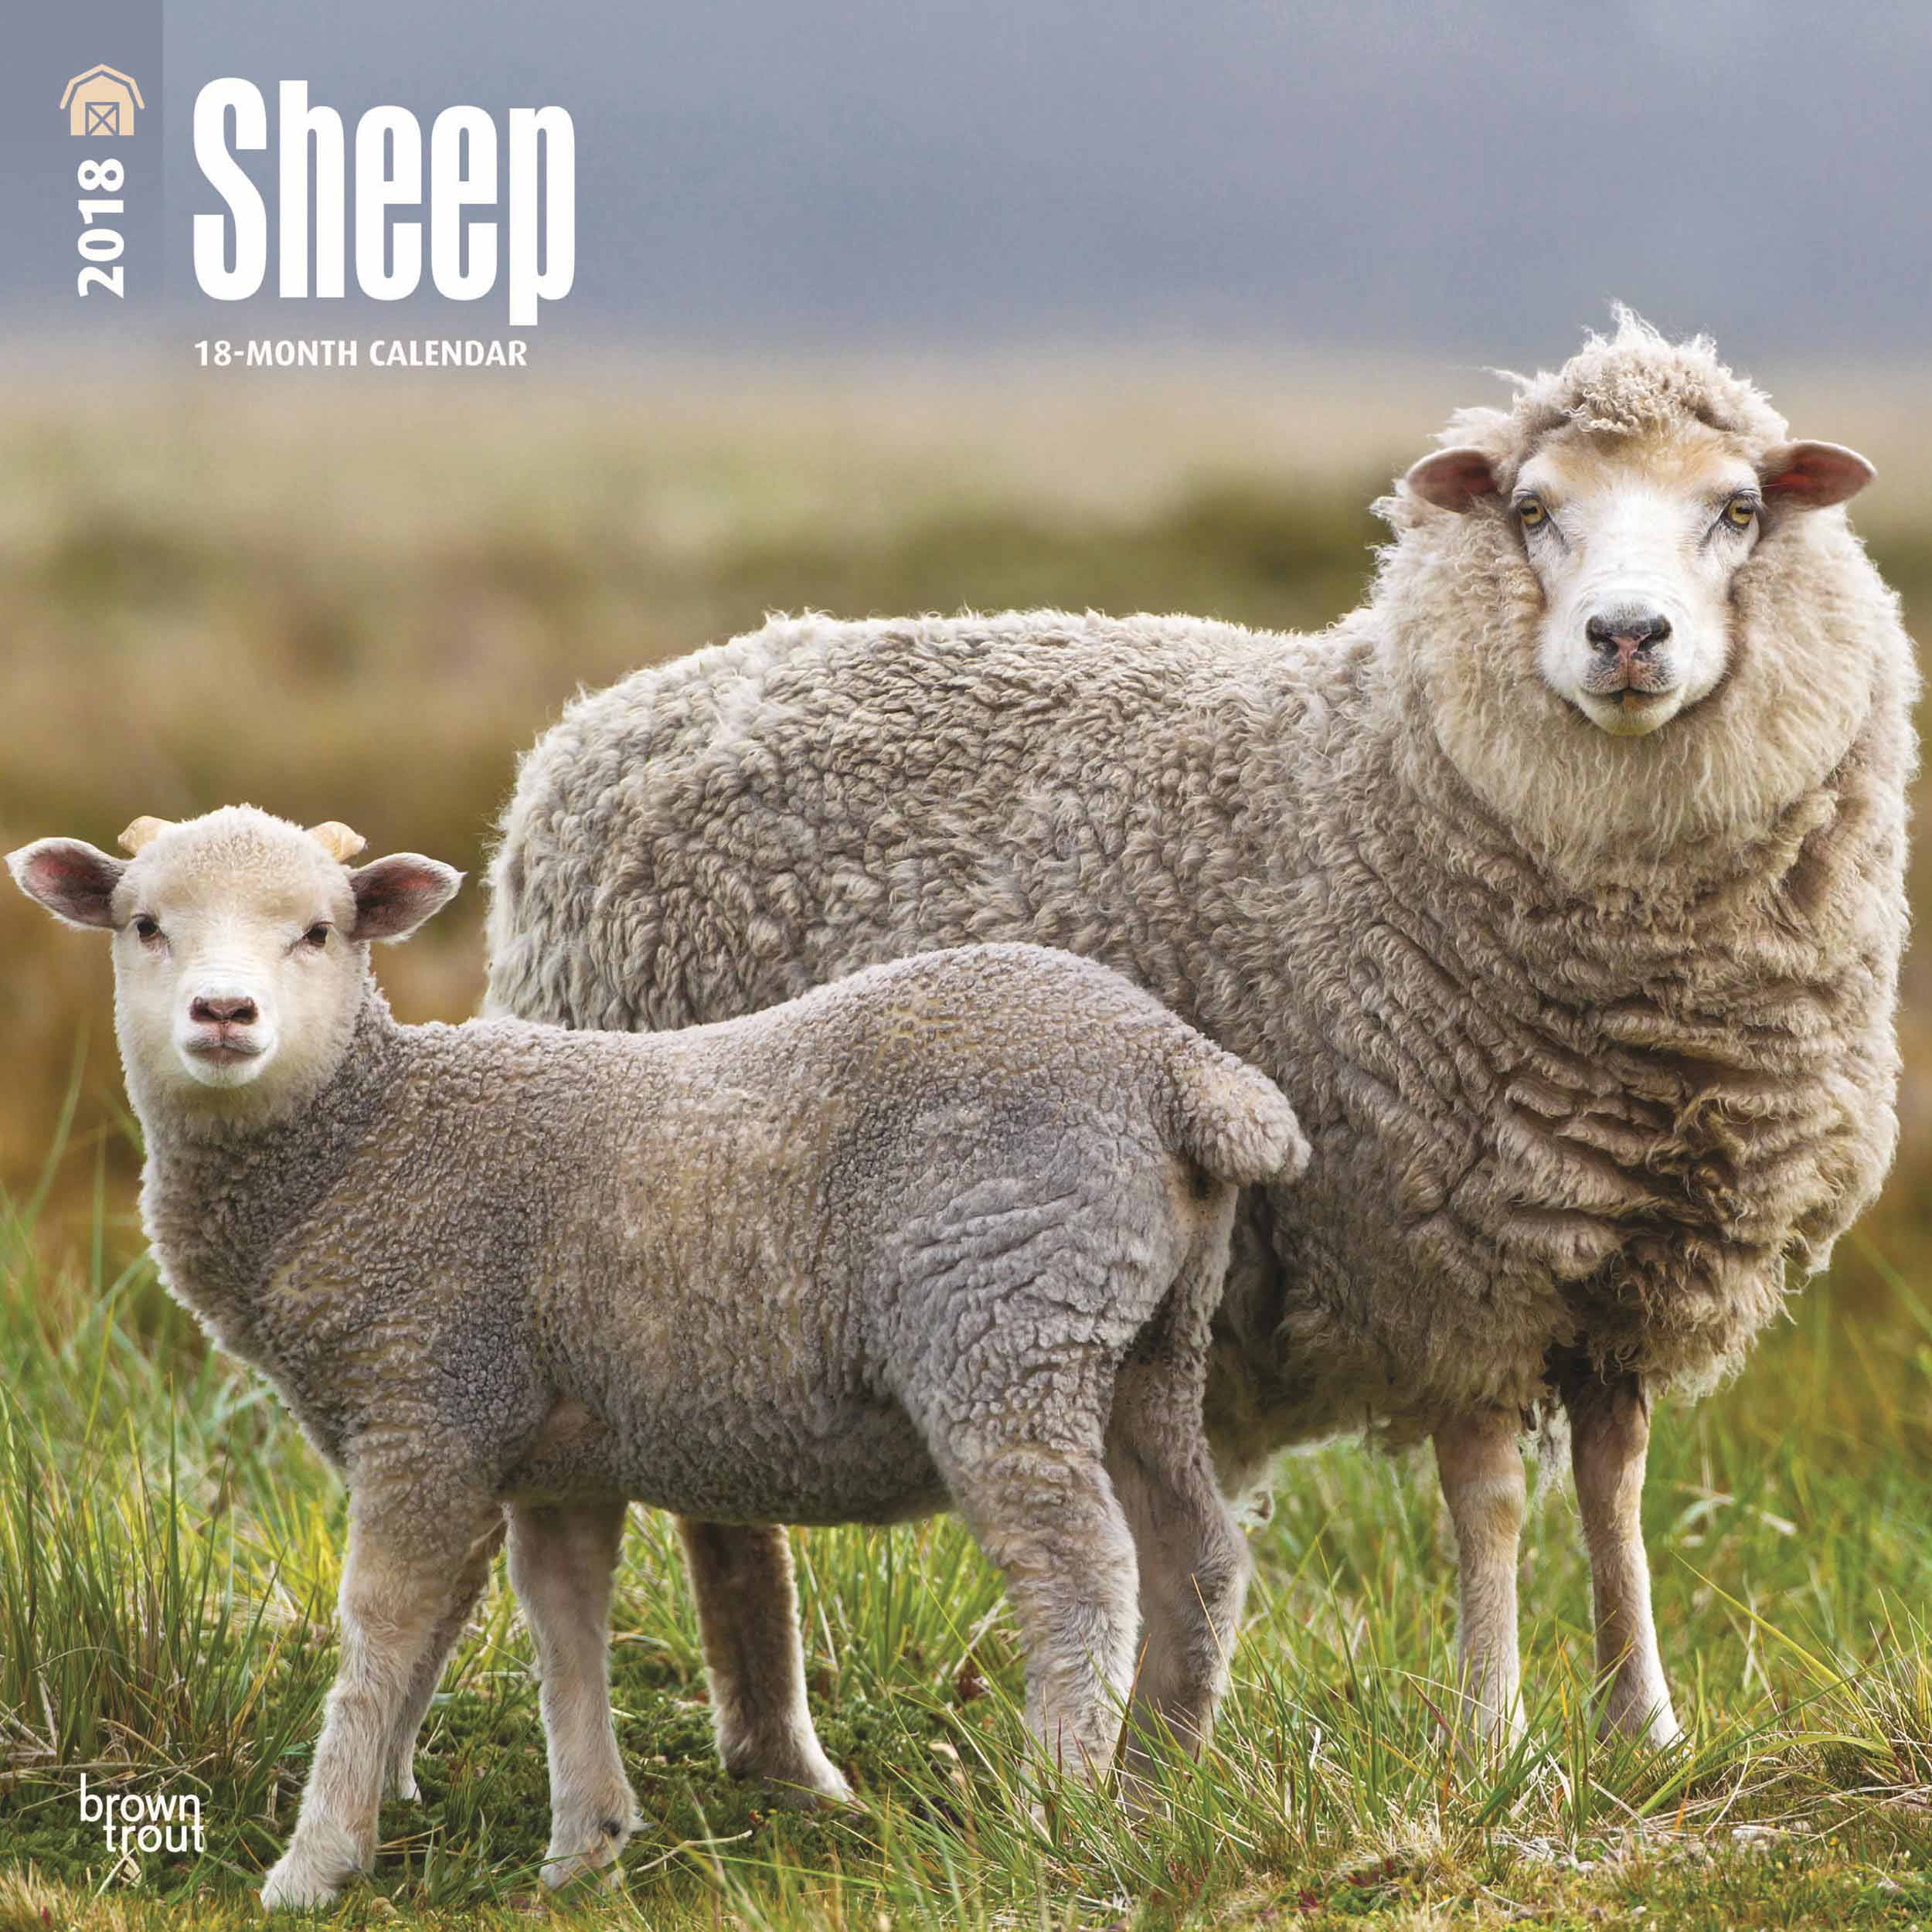sheep: (501, 349, 1858, 1748), (12, 801, 1313, 1886)
